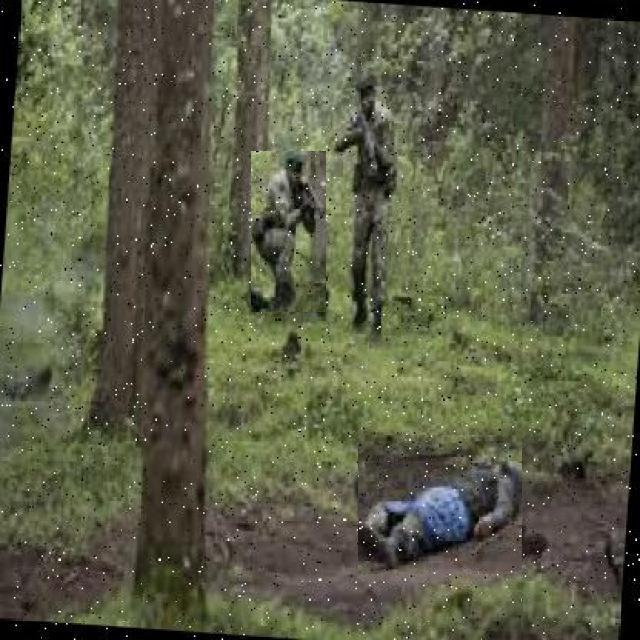poacher: (343, 397, 564, 570)
ranger: (224, 128, 350, 341), (310, 52, 394, 340)
